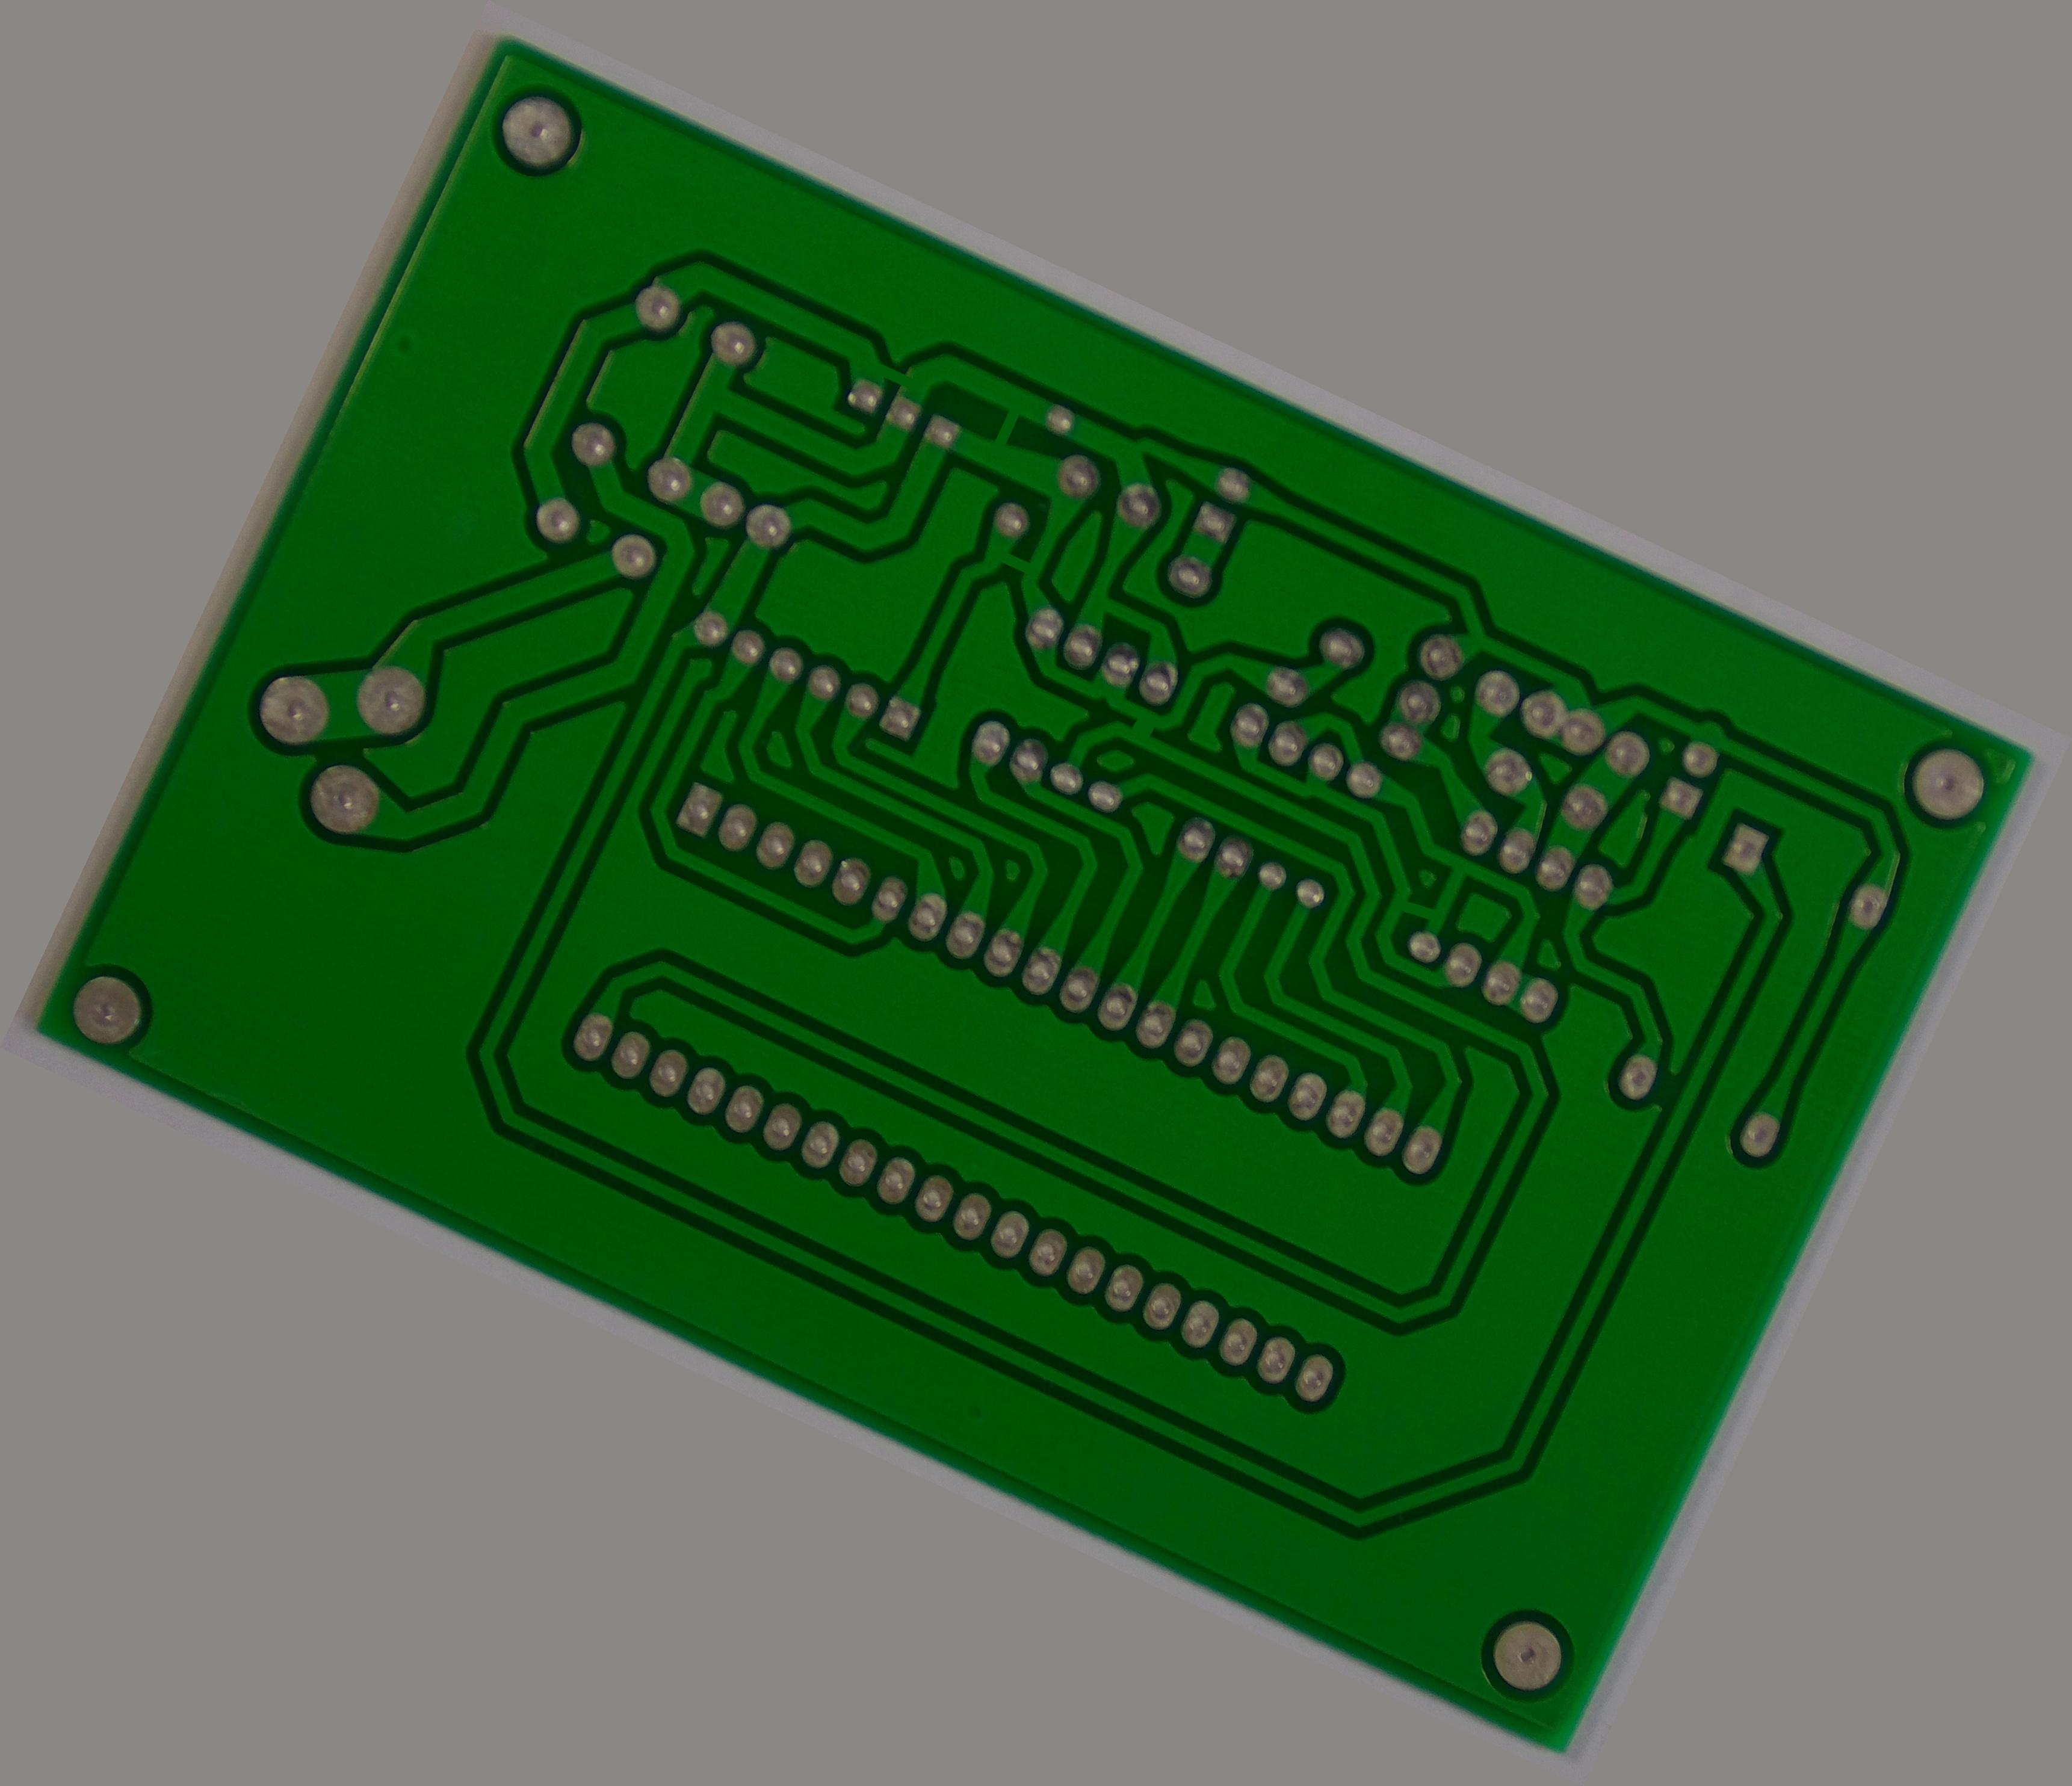short: (971, 513, 1057, 602), (847, 336, 934, 421), (1374, 874, 1459, 955), (966, 391, 1043, 467), (1101, 690, 1177, 763)
